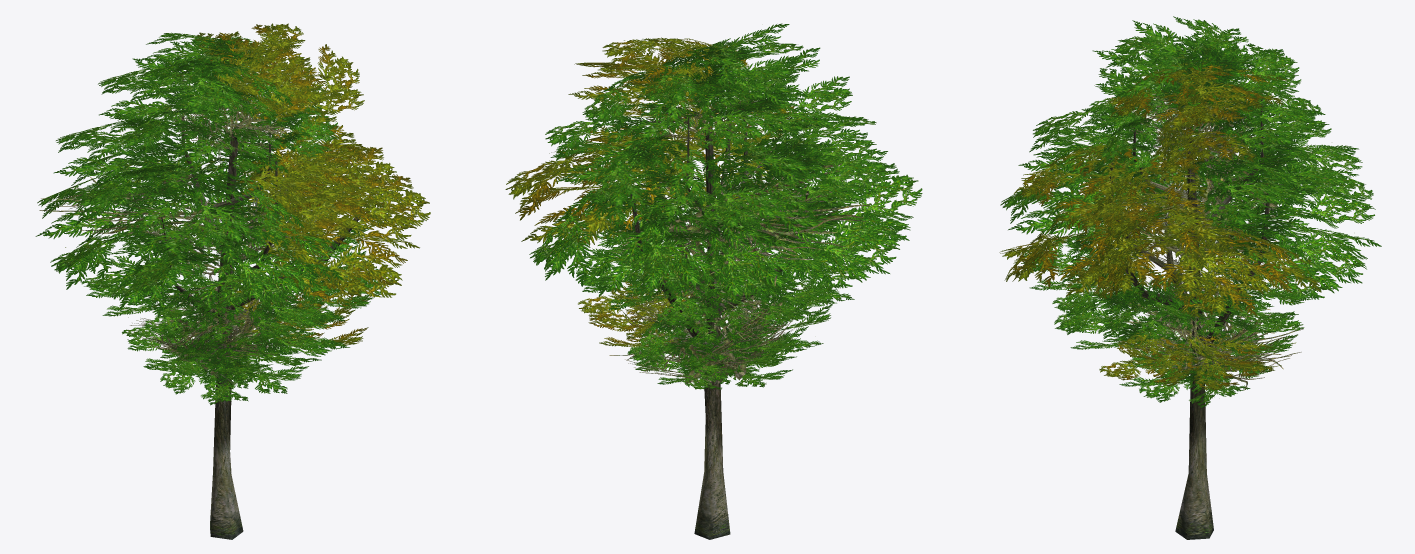
Rendered from tree2.gltf.
The picture shows the model from 3 angles, left to right: view 1: azimuth 30°, elevation 25°; view 2: azimuth 150°, elevation 25°; view 3: azimuth 270°, elevation 25°; orthographic projection.
Visible parts, largest first — view 1: Lo-shu小_08; view 2: Lo-shu小_08; view 3: Lo-shu小_08.
Part boxes in pixels (x1,y1,x2,y2): Lo-shu小_08: [35, 23, 430, 539]; Lo-shu小_08: [505, 23, 922, 539]; Lo-shu小_08: [999, 16, 1381, 539].
Bounding box in the file's own units: 8.13 × 9.84 × 7.65.
Materials: 1 (1 with a texture image).
